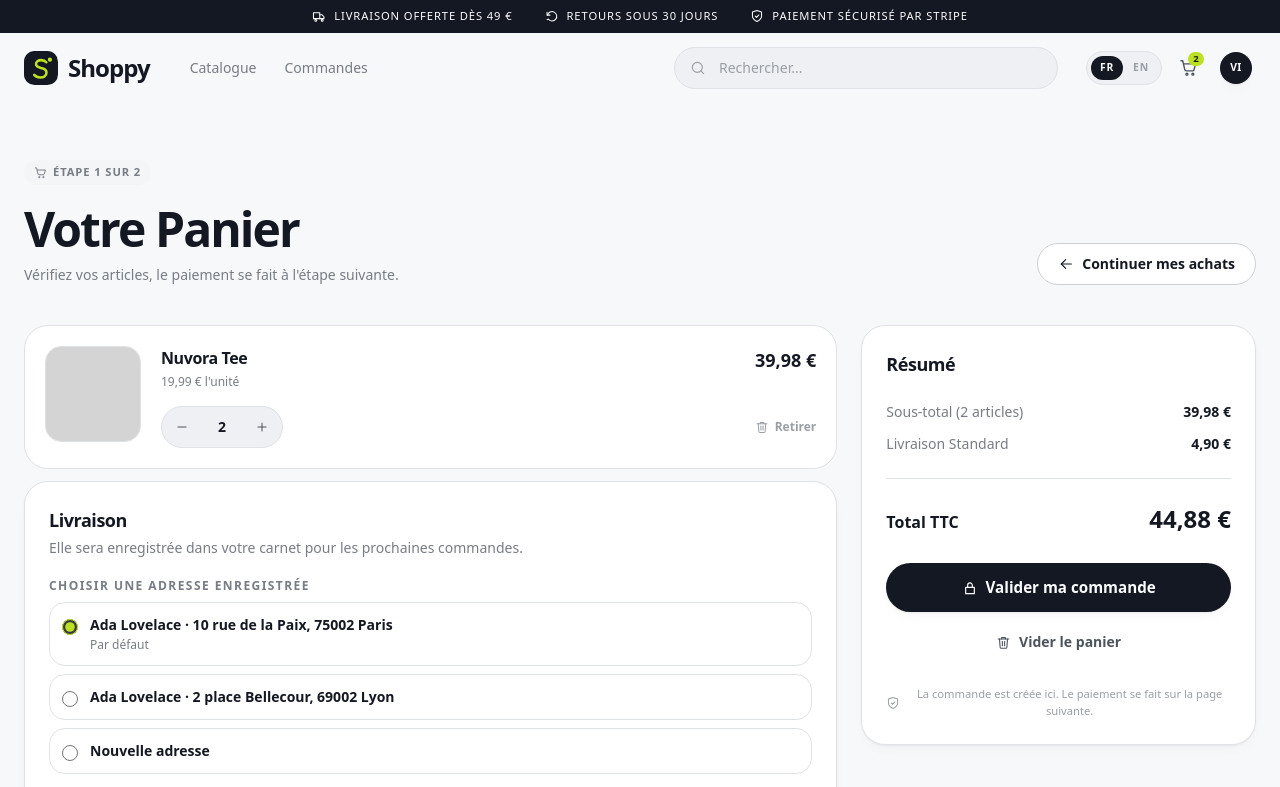
Test: CartPage › lets the customer pick another saved address
Click the radio button labelled "Ada Lovelace · 2 place Bellecour, 69002 Lyon" at (70,699), box [62,691,78,707]
(page scrolled)
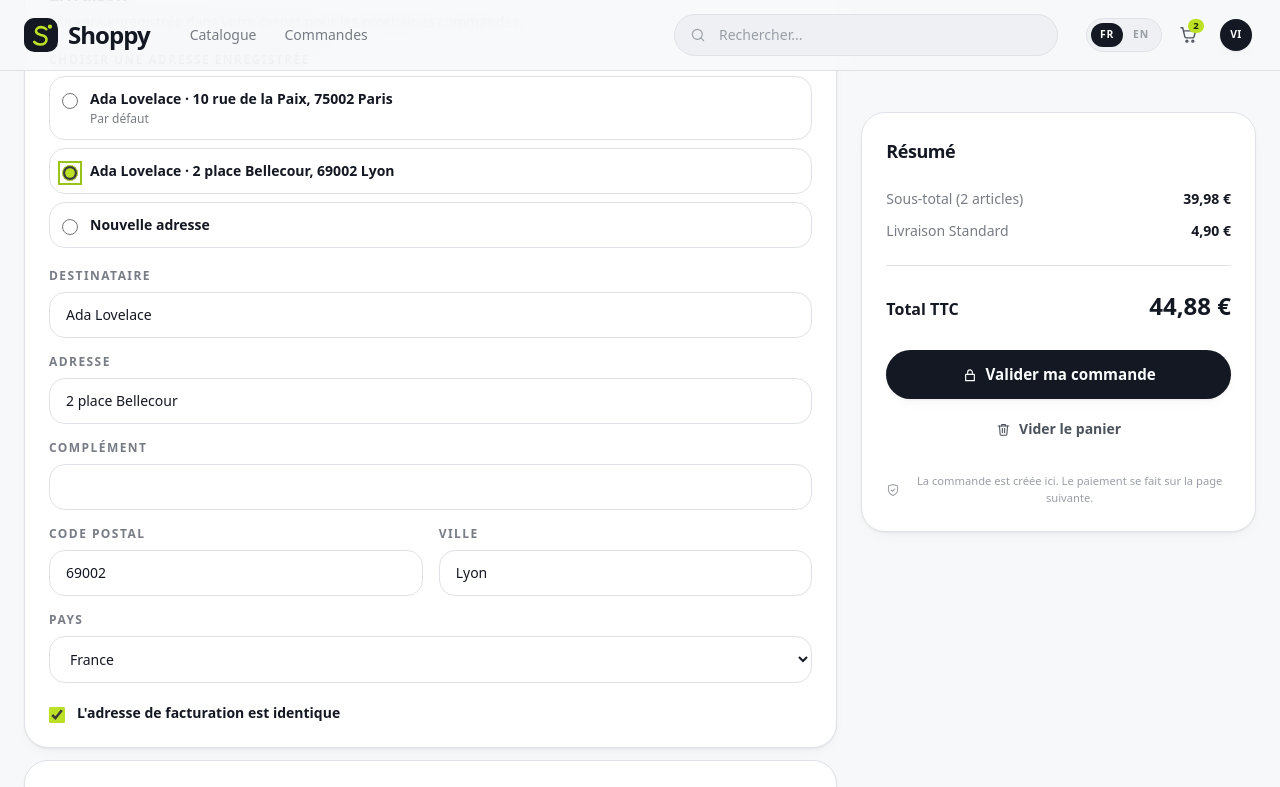
expect the field labelled "Ville" holds "Lyon": met, box [439,550,812,596]
expect the field labelled "Adresse" holds "2 place Bellecour": met, box [49,378,812,424]
